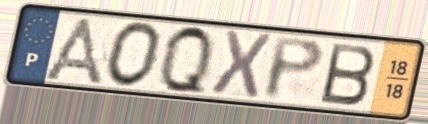A: (38, 15, 106, 89)
B: (318, 40, 378, 108)
O: (104, 20, 166, 90)
P: (261, 35, 327, 103)
Q: (158, 22, 216, 100)
X: (207, 27, 274, 100)
